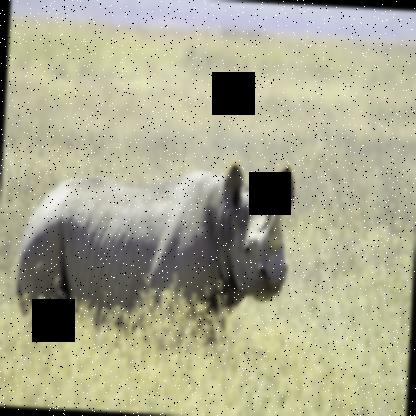Diceros bicornis: (12, 150, 296, 350)
